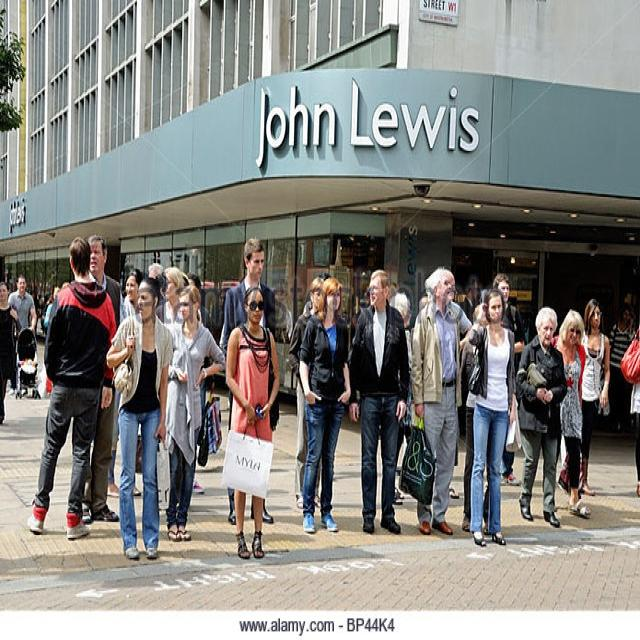body: (24, 232, 119, 542), (104, 274, 174, 564), (216, 234, 280, 526), (344, 268, 411, 536), (162, 282, 228, 544), (222, 283, 281, 561), (466, 286, 523, 548), (408, 263, 462, 537), (296, 274, 352, 534), (78, 232, 126, 526), (514, 305, 568, 529), (159, 268, 206, 494), (564, 296, 613, 498), (286, 275, 327, 512), (550, 308, 593, 519), (459, 300, 493, 538), (490, 270, 527, 486), (617, 325, 640, 499), (607, 303, 635, 436), (0, 279, 22, 427), (393, 417, 414, 506), (8, 273, 38, 332), (139, 262, 201, 282), (459, 272, 484, 319), (156, 280, 180, 328), (121, 259, 140, 319), (44, 281, 69, 322), (448, 446, 464, 500), (391, 286, 412, 324), (404, 322, 412, 368), (31, 289, 45, 314), (179, 280, 201, 290)
